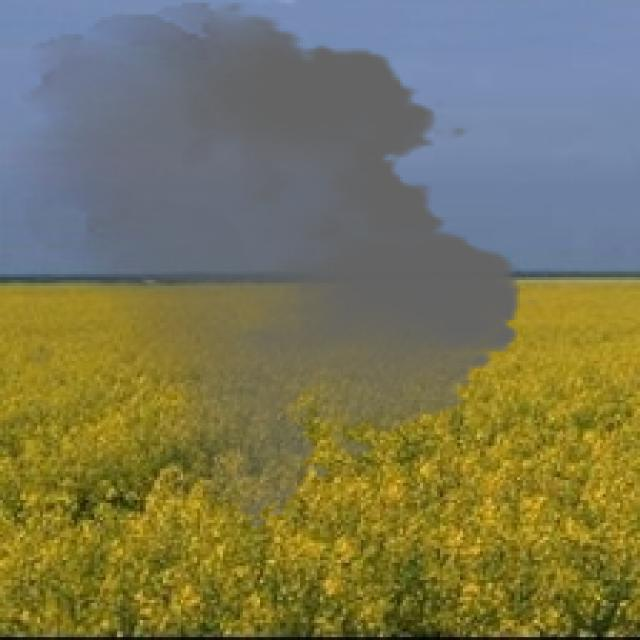Smoke: (3, 2, 540, 532)
